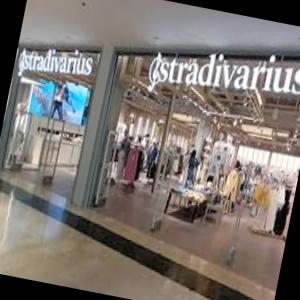stradivarius: (141, 48, 300, 111), (11, 46, 97, 84)
